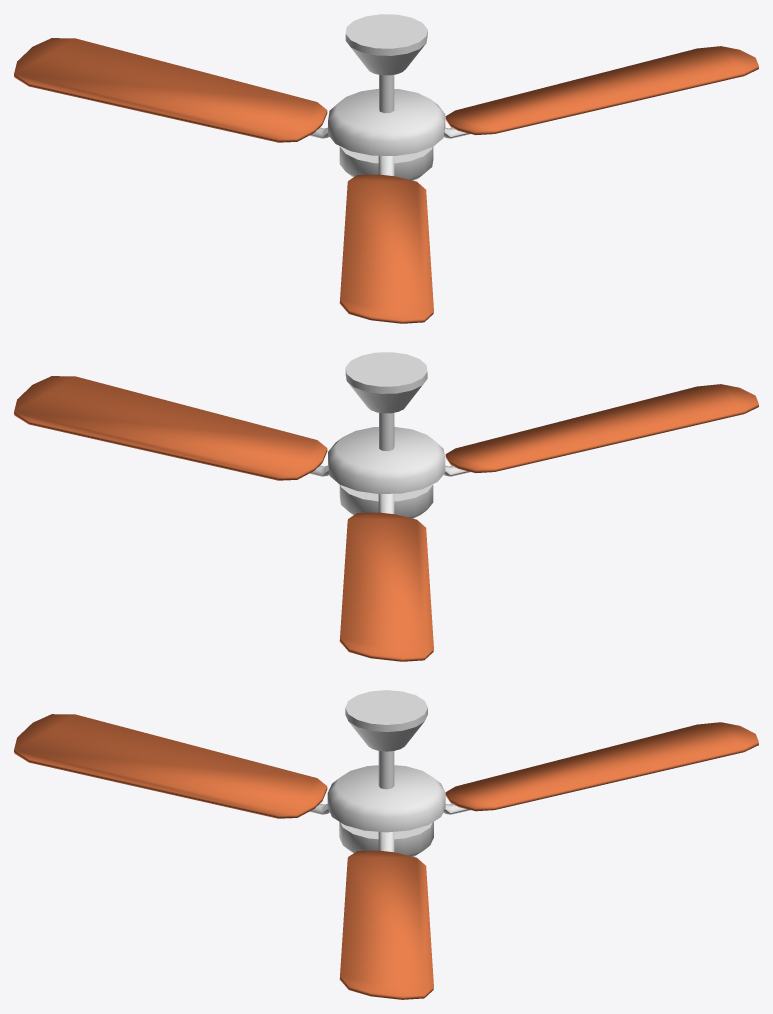
The model's file is ceiling-fan.glb.
The picture shows the model from 3 angles, top to bottom: view 1: azimuth 30°, elevation 25°; view 2: azimuth 150°, elevation 25°; view 3: azimuth 270°, elevation 25°; orthographic projection.
Parts seen in each view (by area): view 1: Plane (×3), Cylinder.003, __X_ROTOR__; view 2: Plane (×3), Cylinder.003, __X_ROTOR__; view 3: Plane (×3), Cylinder.003, __X_ROTOR__.
Boxes of the visible parts, bbox=[...] form: Plane (×3): bbox=[14, 38, 758, 323]; Cylinder.003: bbox=[339, 14, 433, 180]; __X_ROTOR__: bbox=[328, 88, 445, 155]; Plane (×3): bbox=[14, 376, 758, 661]; Cylinder.003: bbox=[339, 352, 433, 518]; __X_ROTOR__: bbox=[328, 427, 445, 493]; Plane (×3): bbox=[14, 714, 758, 999]; Cylinder.003: bbox=[339, 690, 433, 856]; __X_ROTOR__: bbox=[327, 765, 445, 832].
Bounding box in the file's own units: 0.8312 × 0.1925 × 0.9459.
